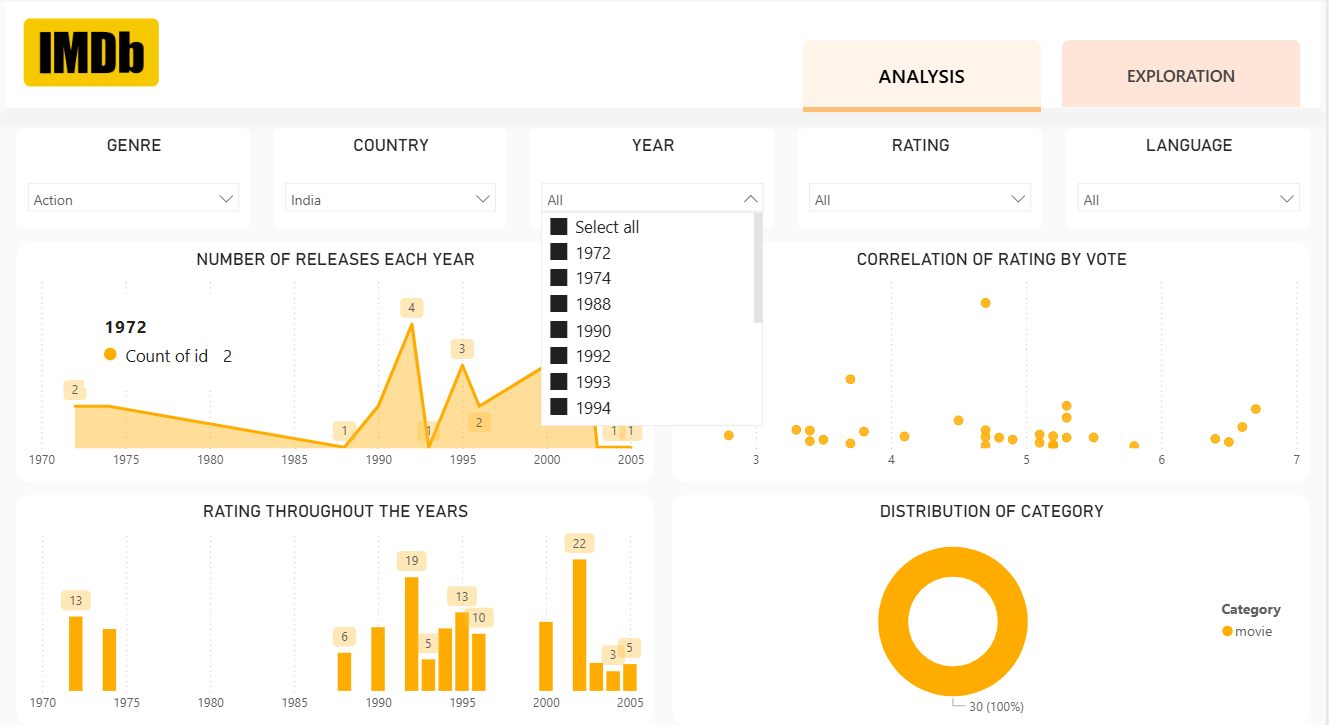

Layout of this report page (visuals, bound fields, positions):
{"tool":"powerbi","page":{"name":"ANALYSIS","canvas":[1280,720],"ordinal":0},"visuals":[{"type":"shape","box":[0,0,1280,113],"z":0},{"type":"pageNavigator","box":[769.4,37.2,491,75.8],"z":1000},{"type":"image","box":[15.7,17.2,144.4,75.8],"z":2000},{"type":"slicer","title":"COUNTRY","fields":{"Values":["country_count.Value"]},"box":[264,127.6,225.2,95.9],"z":3000},{"type":"slicer","title":"YEAR","fields":{"Values":["cleaned_imdb_dataset.year"]},"box":[511.4,127.6,236.3,95.9],"z":4000},{"type":"donutChart","title":"DISTRIBUTION OF CATEGORY","fields":{"Category":["cleaned_imdb_dataset.category"],"Y":["CountNonNull(cleaned_imdb_dataset.category)"]},"box":[649.3,482,615,223.1],"z":5000},{"type":"lineClusteredColumnComboChart","title":"RATING THROUGHOUT THE YEARS","fields":{"Category":["cleaned_imdb_dataset.year"],"Y":["Sum(cleaned_imdb_dataset.rating)"]},"box":[15.7,482,615,223.1],"z":6000},{"type":"scatterChart","title":"CORRELATION OF RATING BY VOTE","fields":{"X":["Avg(cleaned_imdb_dataset.rating)"],"Y":["cleaned_imdb_dataset.vote"]},"box":[649.3,237.4,615,231.7],"z":7000},{"type":"slicer","title":"RATING","fields":{"Values":["cleaned_imdb_dataset.rating"]},"box":[770,127.6,236.3,95.9],"z":8000},{"type":"slicer","title":"LANGUAGE","fields":{"Values":["language_count.Value"]},"box":[1028.6,127.6,236.3,95.9],"z":9000},{"type":"areaChart","title":"NUMBER OF RELEASES EACH YEAR","fields":{"Category":["cleaned_imdb_dataset.year"],"Y":["CountNonNull(cleaned_imdb_dataset.id)"]},"box":[15.7,237.4,615,231.7],"z":10000},{"type":"slicer","title":"GENRE","fields":{"Values":["genre_count.Value"]},"box":[15.7,127.3,226,95.8],"z":11000}]}

Visuals, with their boxes on the page's 1280x720 design canvas (x1, y1, x2, y2). These are canvas units, not pixel positions in the 1329x725 screenshot, which may show the page scaled, cropped or inside an application window:
shape: locate(0, 0, 1280, 113)
pageNavigator: locate(769, 37, 1260, 113)
image: locate(16, 17, 160, 93)
"COUNTRY" slicer: locate(264, 128, 489, 224)
"YEAR" slicer: locate(511, 128, 748, 224)
"DISTRIBUTION OF CATEGORY" donutChart: locate(649, 482, 1264, 705)
"RATING THROUGHOUT THE YEARS" lineClusteredColumnComboChart: locate(16, 482, 631, 705)
"CORRELATION OF RATING BY VOTE" scatterChart: locate(649, 237, 1264, 469)
"RATING" slicer: locate(770, 128, 1006, 224)
"LANGUAGE" slicer: locate(1029, 128, 1265, 224)
"NUMBER OF RELEASES EACH YEAR" areaChart: locate(16, 237, 631, 469)
"GENRE" slicer: locate(16, 127, 242, 223)
